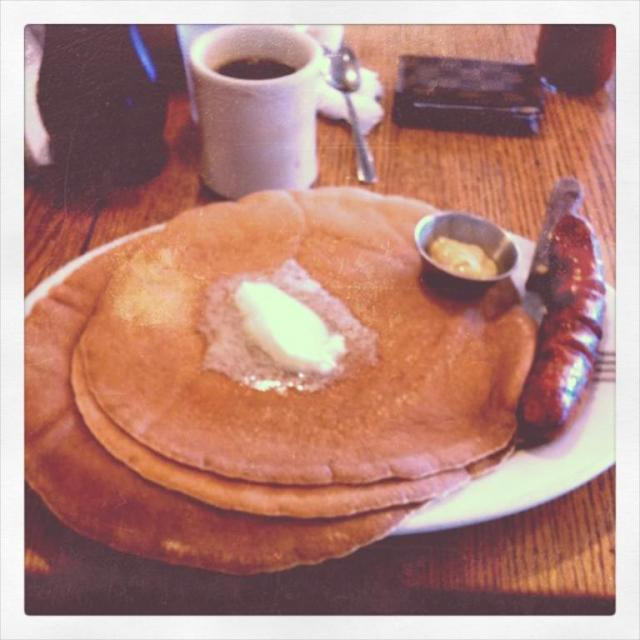Pancake: (25, 230, 424, 579), (81, 189, 540, 485)
